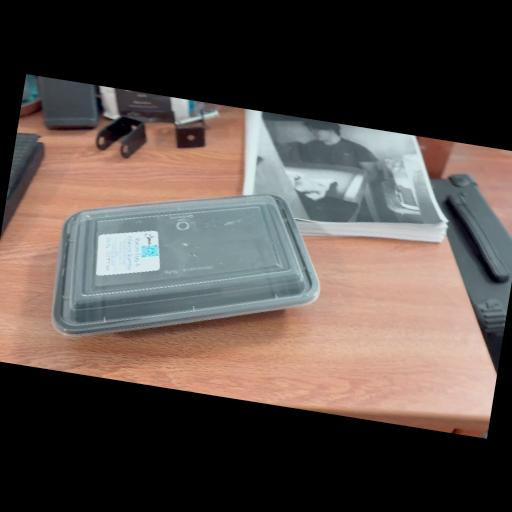rigid_plastic_container: (50, 162, 328, 370)
